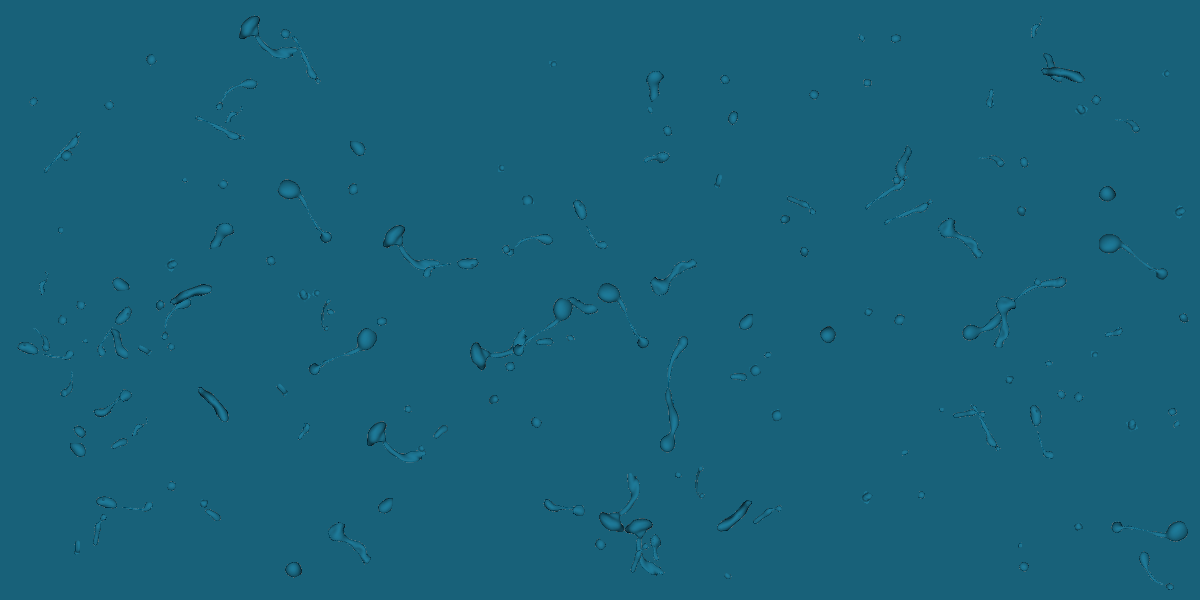Detached ligament: (954, 254, 1071, 361), (304, 311, 382, 398), (1106, 493, 1192, 569), (583, 278, 669, 353), (265, 175, 350, 247), (608, 507, 686, 583), (459, 308, 534, 386), (509, 288, 577, 371), (652, 335, 695, 456), (375, 220, 446, 275), (1099, 232, 1171, 281), (233, 12, 301, 62), (644, 247, 701, 306), (499, 220, 556, 275), (319, 517, 380, 568), (930, 213, 991, 263), (362, 419, 427, 465), (209, 68, 260, 126), (597, 472, 642, 536), (1130, 549, 1188, 597), (861, 169, 913, 218), (40, 126, 86, 181), (962, 400, 1007, 456), (91, 303, 135, 360), (283, 32, 327, 88), (569, 197, 610, 255), (1039, 50, 1087, 99), (880, 193, 937, 234), (90, 380, 134, 428), (157, 294, 193, 349), (190, 113, 249, 145), (168, 274, 214, 315), (1026, 403, 1056, 464), (989, 293, 1018, 349), (948, 395, 988, 434), (634, 65, 673, 104), (79, 512, 118, 550), (16, 340, 77, 364), (419, 255, 480, 279), (564, 288, 601, 325), (619, 541, 657, 577), (715, 499, 755, 533), (541, 492, 586, 522), (885, 144, 921, 181), (783, 185, 818, 223), (197, 384, 230, 424), (95, 495, 156, 515), (203, 219, 238, 250), (639, 142, 672, 174), (1112, 109, 1144, 141), (640, 532, 671, 565), (749, 500, 783, 530), (52, 369, 83, 401), (976, 146, 1008, 176), (1042, 52, 1063, 86), (30, 325, 53, 355), (109, 328, 129, 362), (1024, 14, 1049, 40), (316, 296, 333, 333), (727, 364, 752, 389), (533, 329, 558, 354), (32, 270, 55, 297), (126, 416, 153, 438), (220, 104, 247, 125), (1102, 322, 1126, 344), (203, 504, 225, 526), (109, 432, 131, 454), (692, 464, 705, 500), (982, 87, 999, 110), (296, 420, 312, 443), (432, 422, 450, 440), (274, 382, 290, 398), (136, 344, 153, 357), (713, 173, 723, 189), (73, 540, 81, 555)
drop: (815, 323, 840, 348), (1094, 181, 1119, 206), (281, 557, 305, 581), (111, 274, 131, 293), (724, 108, 743, 127), (376, 495, 394, 515), (347, 140, 367, 158), (737, 312, 754, 331), (68, 442, 87, 459), (72, 423, 88, 441), (528, 415, 544, 430), (59, 147, 74, 163), (592, 537, 608, 552), (164, 257, 179, 273), (296, 288, 312, 303), (1172, 204, 1187, 220), (151, 298, 167, 313), (859, 490, 874, 505), (717, 72, 732, 87), (806, 88, 821, 103), (1016, 560, 1031, 575), (144, 52, 158, 67), (748, 363, 762, 378), (1125, 418, 1139, 433), (1074, 103, 1089, 117), (1089, 92, 1103, 107), (278, 27, 292, 42), (893, 312, 906, 327), (770, 408, 783, 423), (504, 360, 517, 375), (797, 245, 810, 260), (661, 123, 674, 138), (1177, 312, 1190, 326), (164, 341, 177, 354), (56, 314, 69, 327), (103, 99, 116, 112), (1072, 391, 1085, 404), (217, 178, 230, 191), (264, 254, 277, 267), (1055, 388, 1068, 401), (27, 95, 40, 108), (347, 182, 359, 196), (779, 214, 793, 226), (1018, 155, 1030, 169), (500, 243, 512, 256), (1166, 406, 1179, 418), (1031, 277, 1043, 289), (166, 480, 178, 492), (375, 316, 388, 327), (889, 33, 902, 44), (75, 300, 87, 311), (863, 306, 874, 318), (856, 33, 867, 44), (762, 349, 773, 360), (917, 490, 928, 501), (1004, 374, 1015, 385), (1073, 521, 1084, 532), (891, 175, 902, 186), (522, 195, 534, 205), (487, 394, 499, 404), (1016, 206, 1026, 218), (673, 471, 684, 481), (1043, 358, 1054, 368), (1161, 68, 1171, 79), (416, 444, 426, 455), (862, 78, 873, 88), (1170, 419, 1181, 429), (402, 404, 412, 414), (311, 288, 321, 298), (325, 307, 336, 316), (548, 59, 558, 68), (56, 226, 64, 236), (646, 106, 654, 116), (901, 449, 911, 457), (200, 499, 208, 508), (1090, 350, 1099, 358), (497, 164, 505, 173), (180, 177, 189, 185), (81, 338, 89, 346), (566, 334, 575, 341), (723, 573, 732, 580), (1016, 541, 1023, 549), (937, 407, 945, 414)
